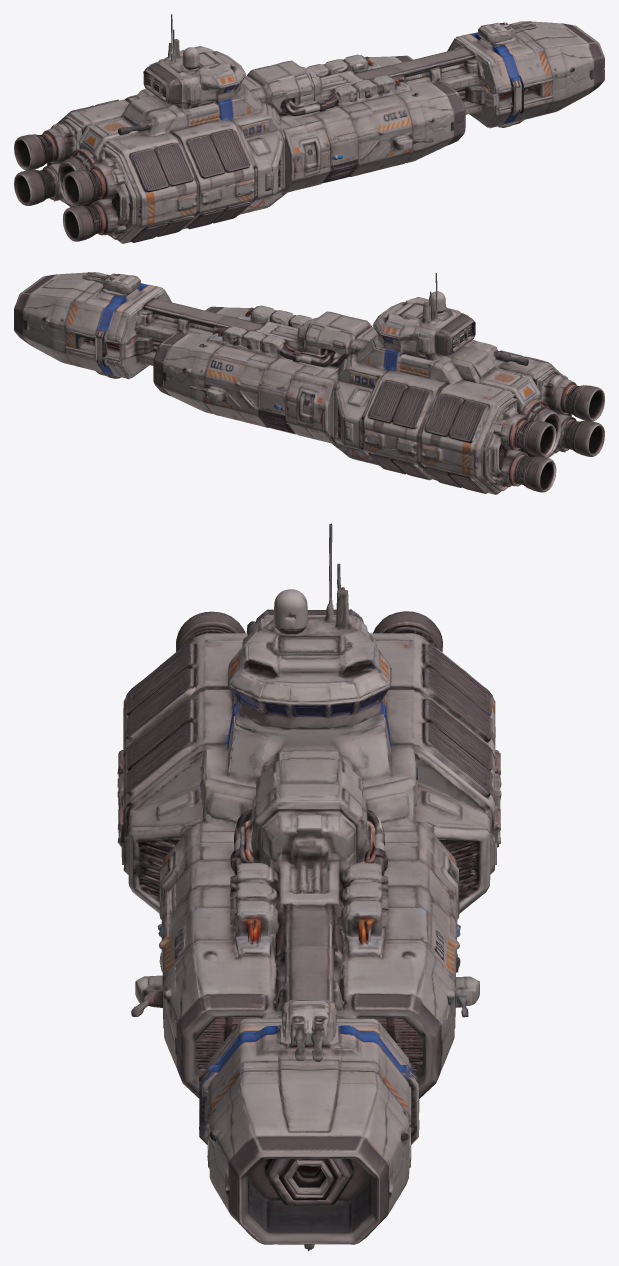
The model's file is destroyer.glb.
3 views of the same model, one above another, from view 1: azimuth 30°, elevation 25°; view 2: azimuth 150°, elevation 25°; view 3: azimuth 270°, elevation 25° (orthographic). The views are drawn at different scales.
Visible parts, largest first — view 1: tripo_node_9b1b5fea-e89f-4362-8ef0-df6c606cc370; view 2: tripo_node_9b1b5fea-e89f-4362-8ef0-df6c606cc370; view 3: tripo_node_9b1b5fea-e89f-4362-8ef0-df6c606cc370.
Part boxes in pixels (<box>): tripo_node_9b1b5fea-e89f-4362-8ef0-df6c606cc370: <box>14,14,604,243</box>; tripo_node_9b1b5fea-e89f-4362-8ef0-df6c606cc370: <box>14,272,604,494</box>; tripo_node_9b1b5fea-e89f-4362-8ef0-df6c606cc370: <box>117,523,501,1251</box>.
Bounding box in the file's own units: 0.987 × 0.3347 × 0.3034.
Materials: 1 (1 with a texture image).
